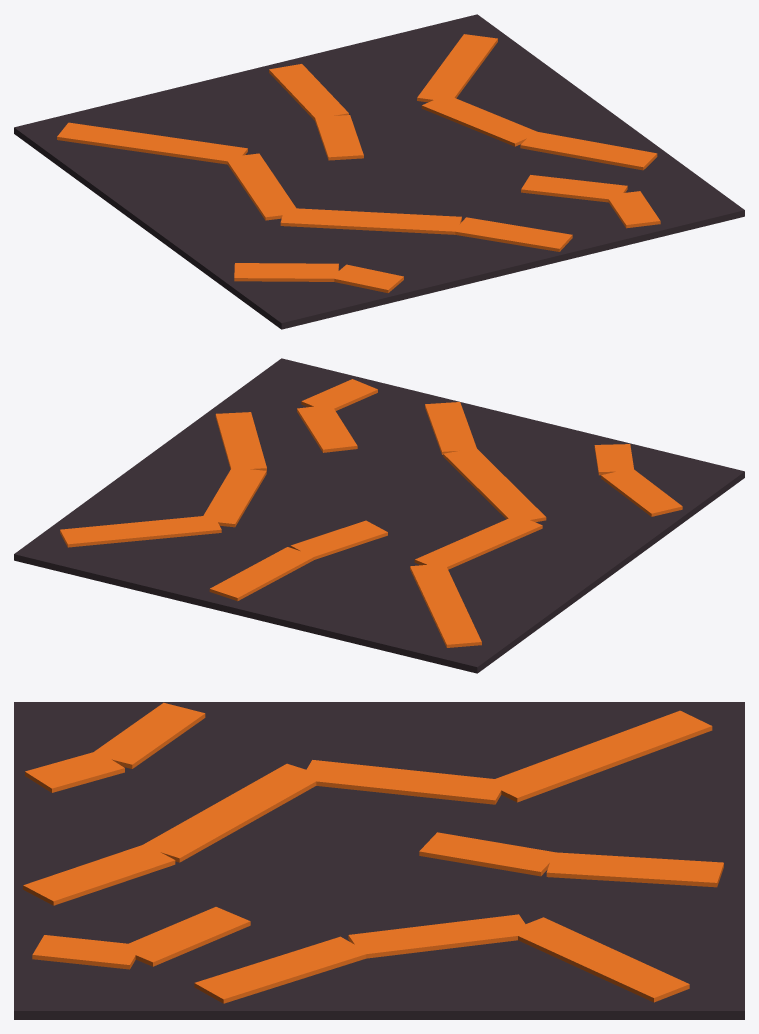
File: env_r3_lava_cracks.glb
3 views of the same model, one above another, from view 1: azimuth 30°, elevation 25°; view 2: azimuth 150°, elevation 25°; view 3: azimuth 270°, elevation 25° (orthographic). The views are drawn at different scales.
Visible parts, largest first — view 1: env_r3_lava_cracks; view 2: env_r3_lava_cracks; view 3: env_r3_lava_cracks.
Boxes of the visible parts, left/top/right/bottom form: env_r3_lava_cracks: left=14, top=14, right=744, bottom=329; env_r3_lava_cracks: left=14, top=358, right=744, bottom=673; env_r3_lava_cracks: left=14, top=702, right=744, bottom=1019.
Size of the model in its own units: 3 by 0.06 by 3.
1 material, 1 textured.
